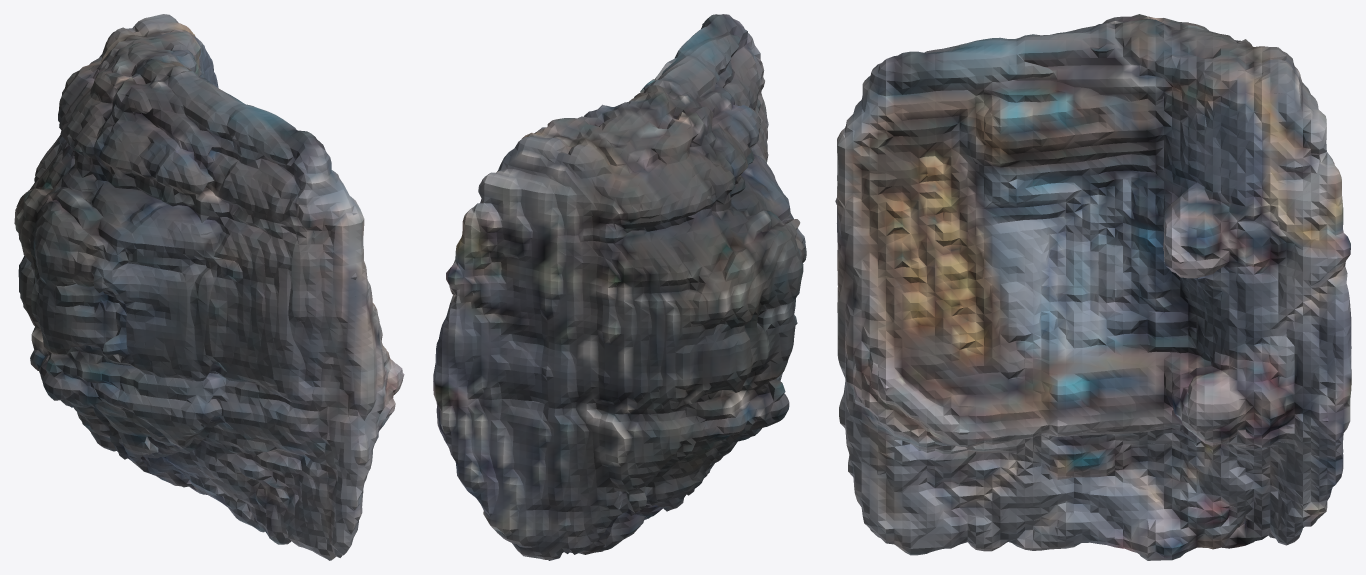
The model's file is building-release-gatehouse.glb.
3 renders of one model, left to right at view 1: azimuth 30°, elevation 25°; view 2: azimuth 150°, elevation 25°; view 3: azimuth 270°, elevation 25°, orthographic. The views are drawn at different scales.
Parts seen in each view (by area): view 1: world; view 2: world; view 3: world.
Boxes of the visible parts, box(x1,y1,x2,y2) form: world: box(14, 14, 404, 560); world: box(433, 14, 806, 560); world: box(835, 14, 1351, 560).
Size of the model in its own units: 0.6129 by 0.937 by 0.8654.
